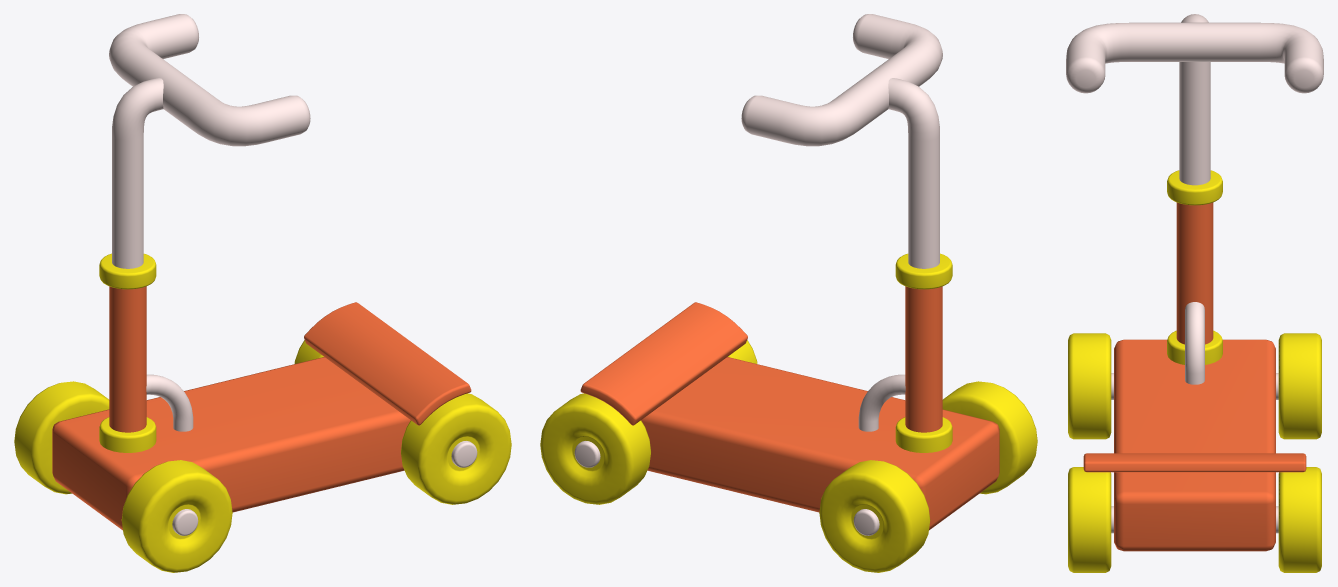
The model's file is Town_19_Childrens_Scooter_1.glb.
The picture shows the model from 3 angles, left to right: view 1: azimuth 30°, elevation 25°; view 2: azimuth 150°, elevation 25°; view 3: azimuth 270°, elevation 25°; orthographic projection.
Parts seen in each view (by area): view 1: Town_19_Childrens_Scooter_1; view 2: Town_19_Childrens_Scooter_1; view 3: Town_19_Childrens_Scooter_1.
Boxes of the visible parts, x1=… form: Town_19_Childrens_Scooter_1: x1=14, y1=14, x2=511, y2=572; Town_19_Childrens_Scooter_1: x1=540, y1=14, x2=1037, y2=572; Town_19_Childrens_Scooter_1: x1=1066, y1=14, x2=1323, y2=572.
Size of the model in its own units: 0.8422 by 0.9533 by 0.5137.
Materials: 1 (1 with a texture image).
